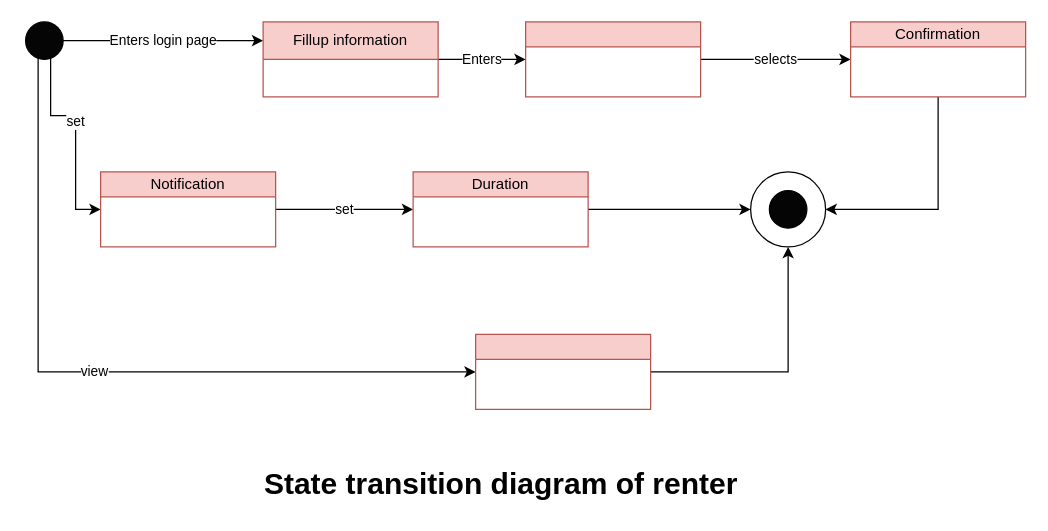
This 1048x531 diagram has some shape labels left out. The shapes that lost their labels are listed below. From the top down, each one's centre as x and y in pixels, then its label:
At (612,59): "Products info".
At (562,371): "Account information".
